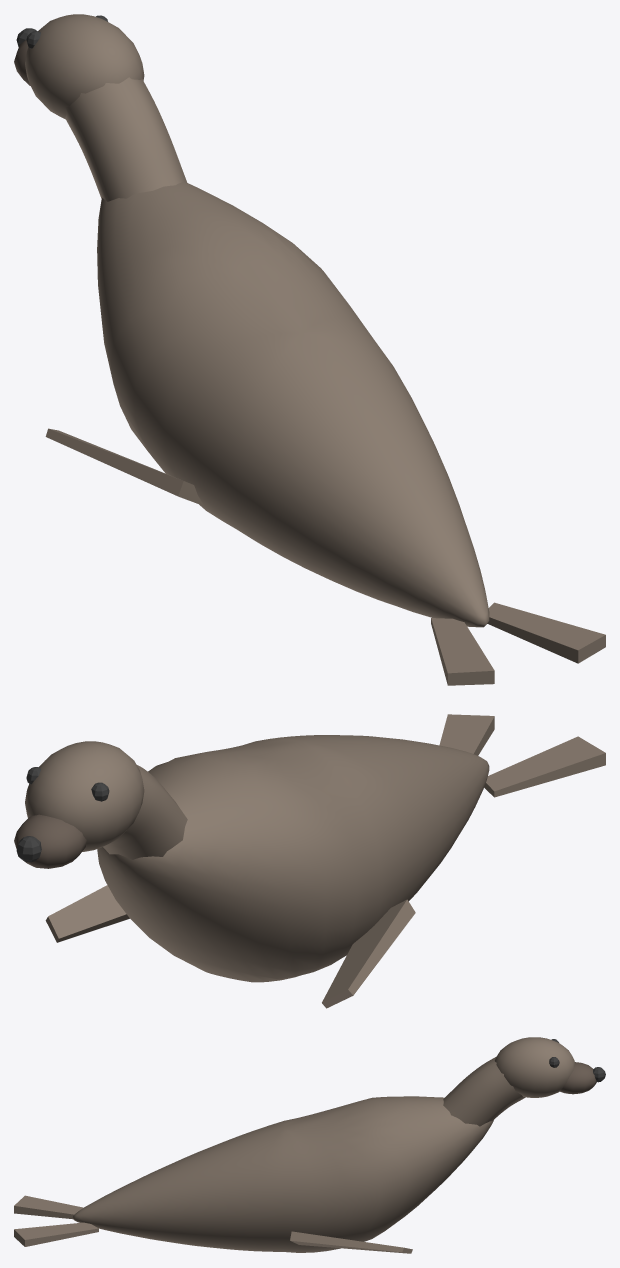
Rendered from sealion.glb.
The picture shows the model from 3 angles, top to bottom: view 1: azimuth 30°, elevation 25°; view 2: azimuth 150°, elevation 25°; view 3: azimuth 270°, elevation 25°; orthographic projection. The views are drawn at different scales.
Parts seen in each view (by area): view 1: sealion; view 2: sealion; view 3: sealion.
Part boxes in pixels (<box>): sealion: <box>14,14,605,685</box>; sealion: <box>14,714,605,1008</box>; sealion: <box>14,1037,605,1253</box>.
Bounding box in the file's own units: 1.06 × 1.18 × 3.07.
